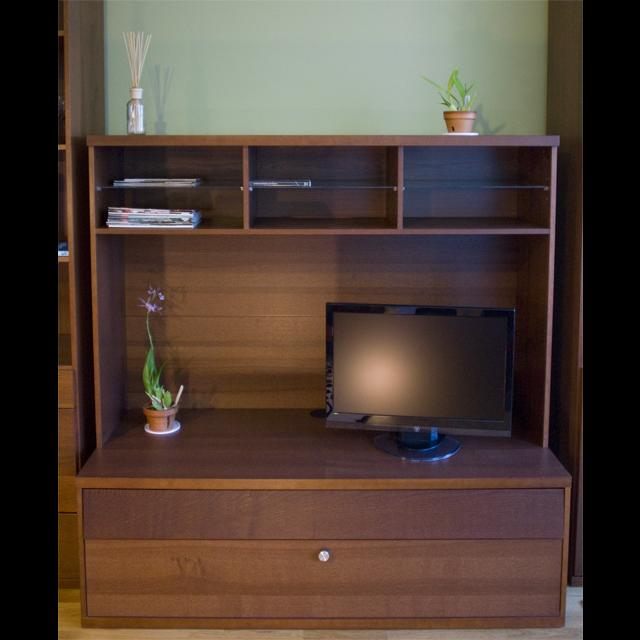Flat-Panel-TV: (327, 302, 518, 461)
